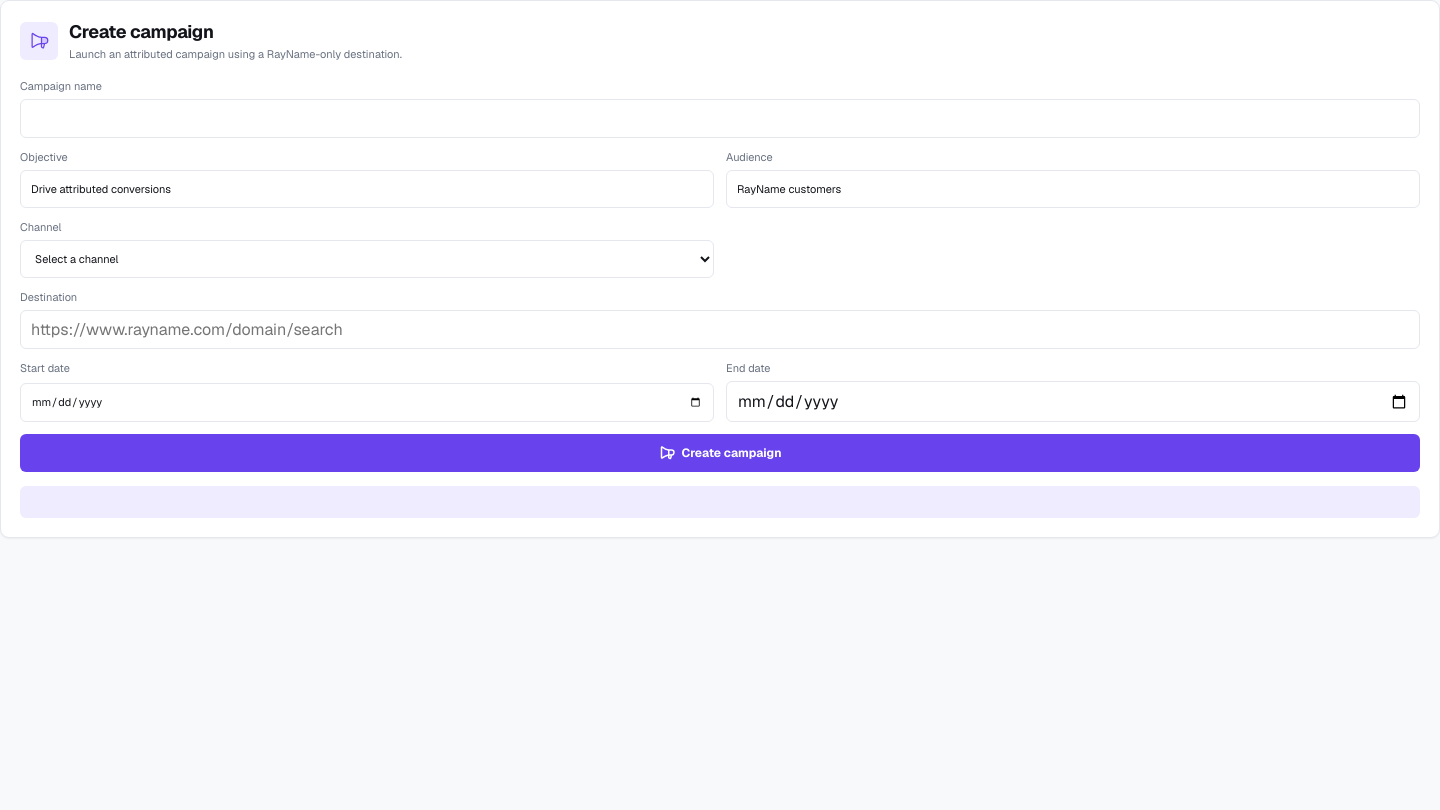
it: rejects external destinations and focuses the destination error
Type "External rescue" into the field labelled "Campaign name" at coordinates (720, 118), box [20,99,1420,138]
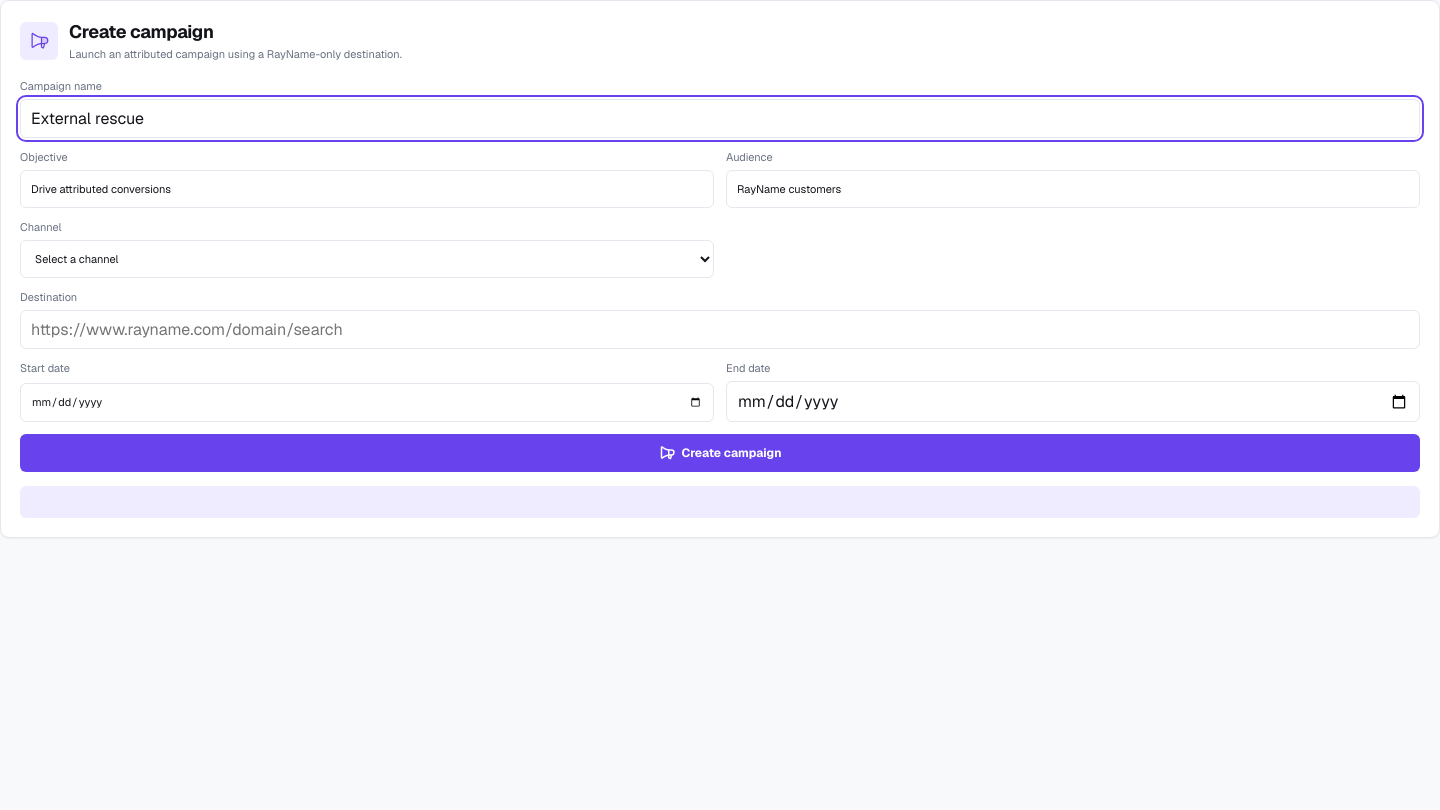
Select "Discord" in the dropdown labelled "Channel" at coordinates (367, 259), box [20,240,714,278]
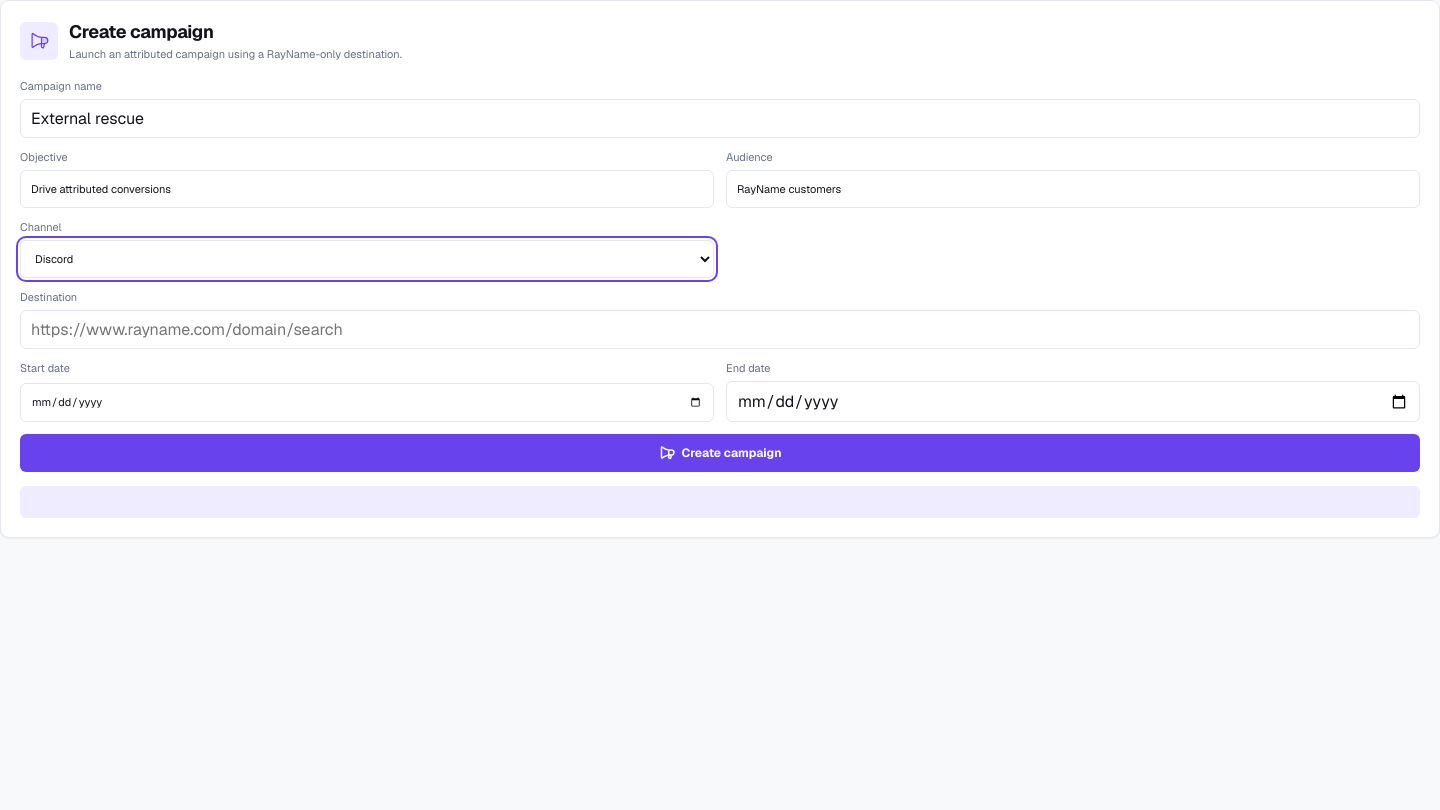
Type "https://example.com/search" into the field labelled "Destination" at coordinates (720, 330), box [20,310,1420,349]
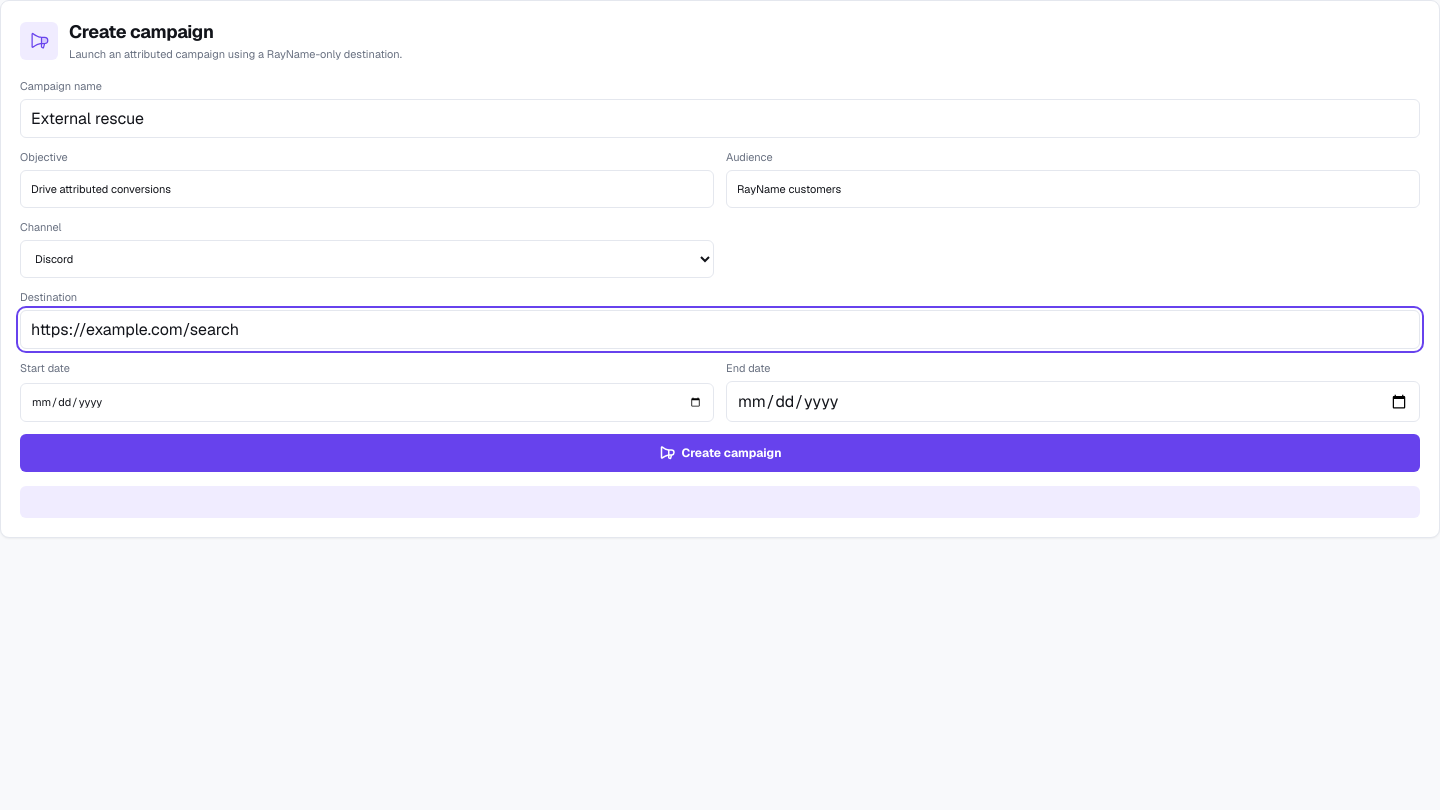
Type "2026-08-23" into the date field labelled "Start date" at coordinates (367, 402), box [20,382,714,422]
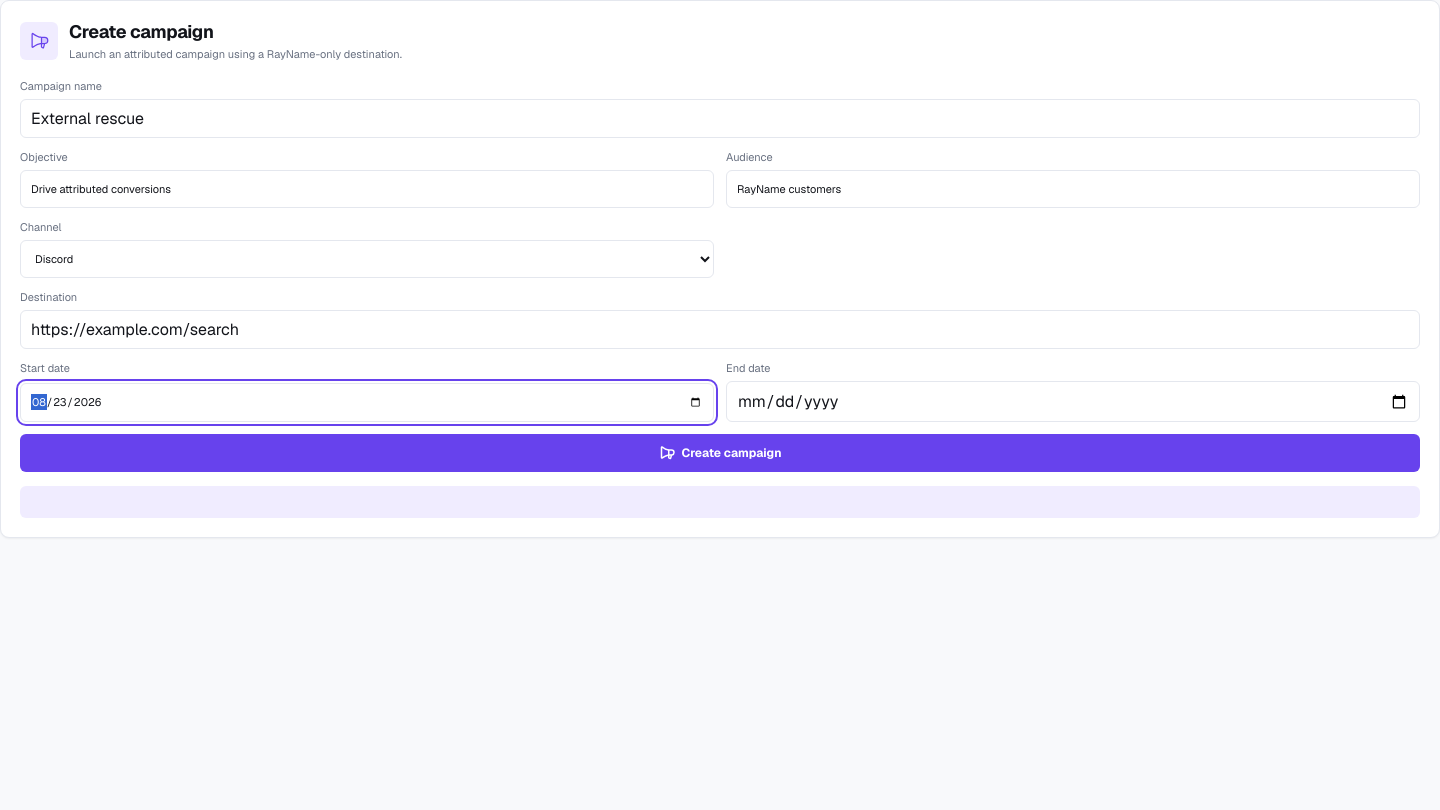
Type "2026-09-06" into the date field labelled "End date" at coordinates (1073, 402), box [726,381,1420,422]
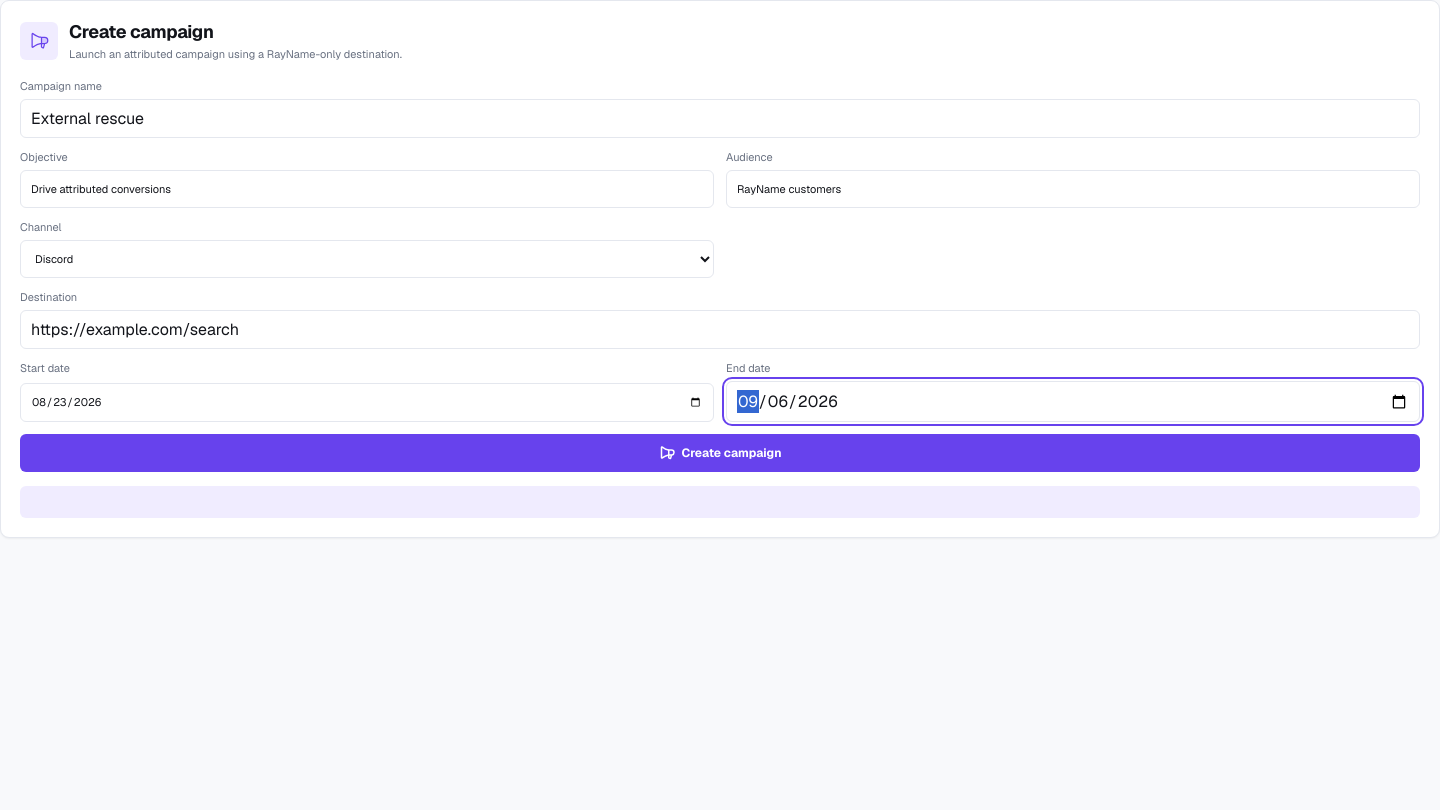
Click the button "Create campaign" at coordinates (720, 453), box [20,434,1420,472]
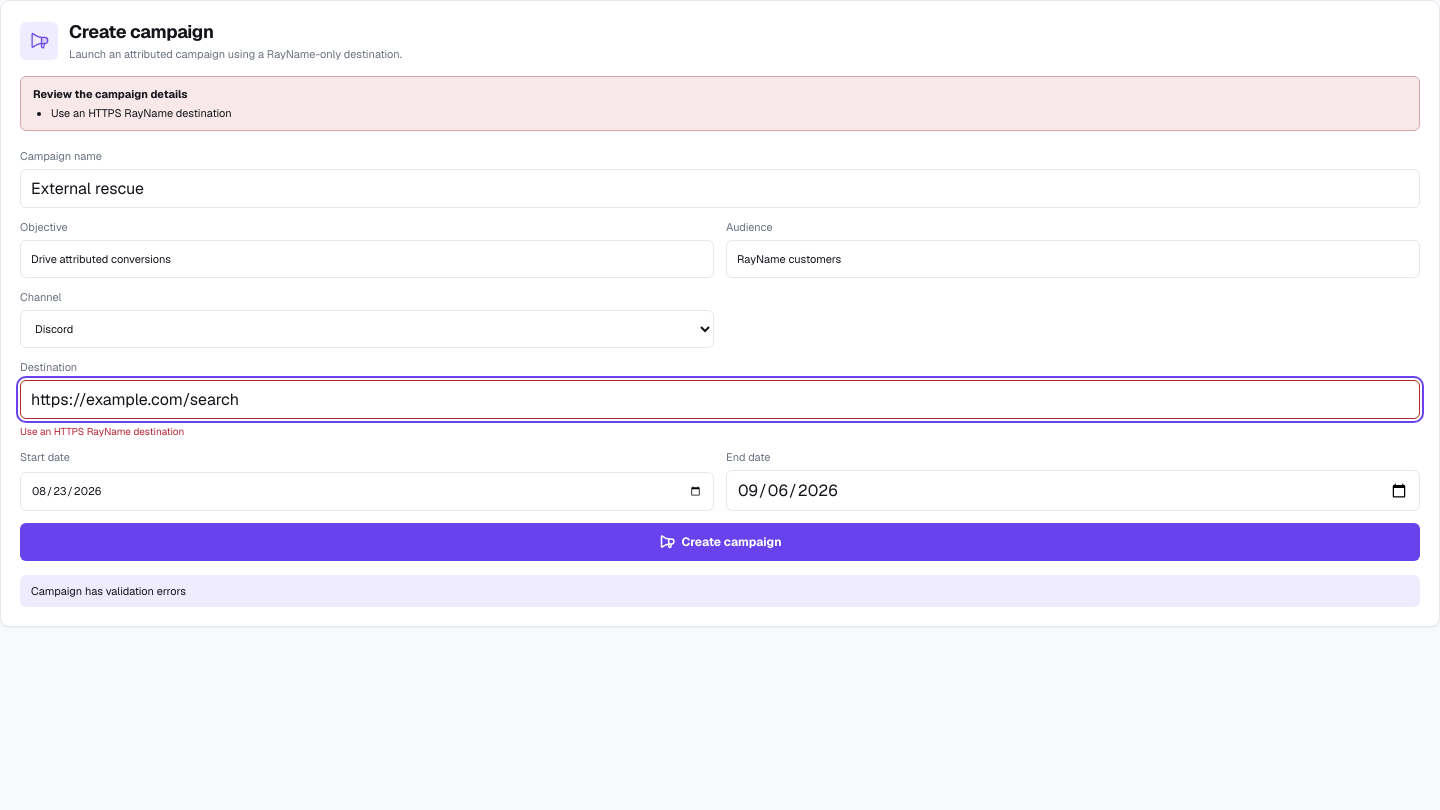
expect the message "Review the campaign details Use an HTTPS RayName destination" is shown: met, box [20,76,1420,131]
